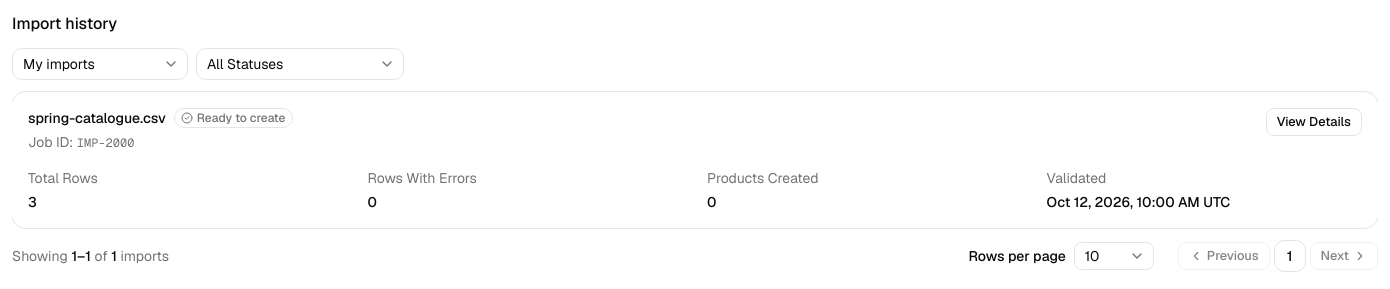
Test: ImportHistory › lets an administrator switch to everyone's imports and shows who started each
Expected: the heading "spring-catalogue.csv" is shown, top-left (28, 108), bottom-right (166, 128)
Expected: the text "Sam Staff" is not shown
Click the dropdown named "Whose imports to show": [100, 64] box top-left (12, 48), bottom-right (188, 80)
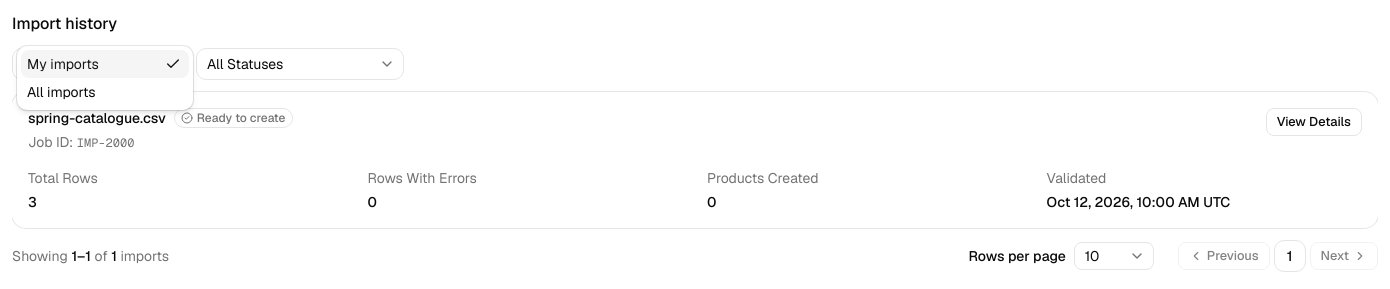
Click the option "All imports": [61, 92] box top-left (27, 83), bottom-right (96, 101)
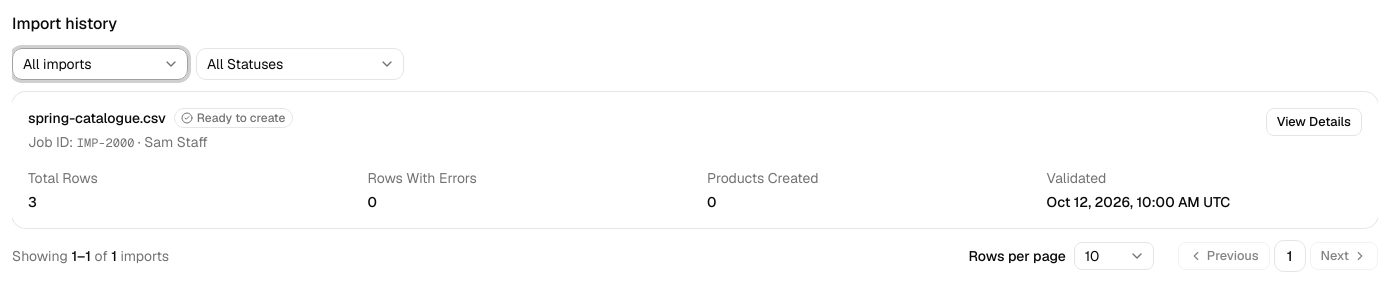
Expected: the text "Job ID: IMP-2000 · Sam Staff" is shown, top-left (28, 133), bottom-right (208, 151)
